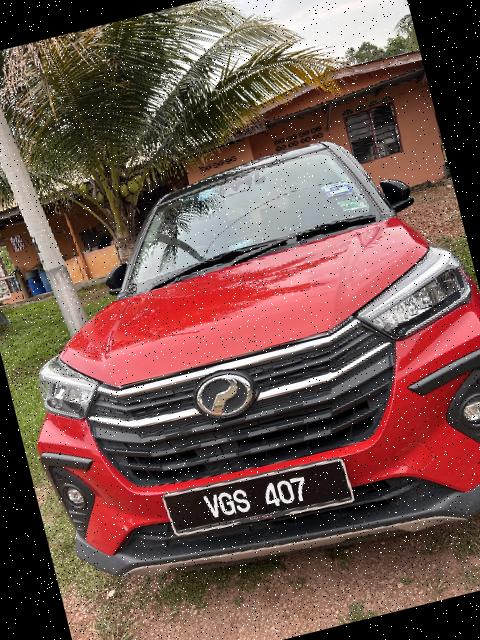License_Plate: (162, 449, 357, 545)
car: (1, 109, 480, 623)
